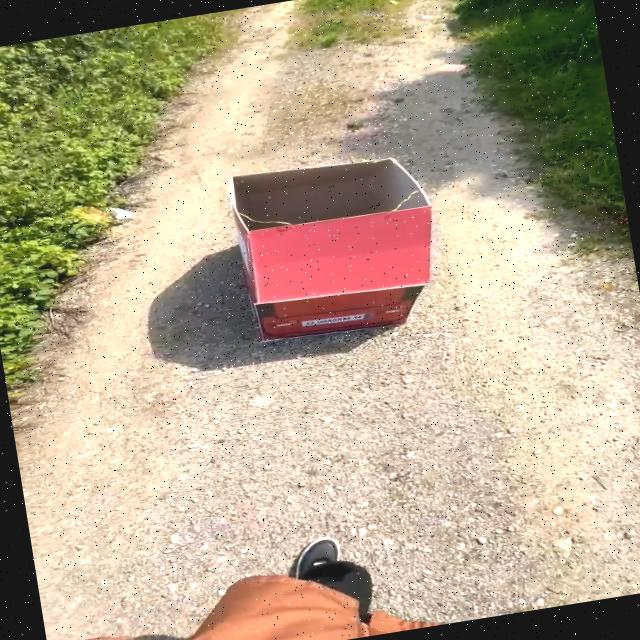red_car: (189, 126, 501, 360)
